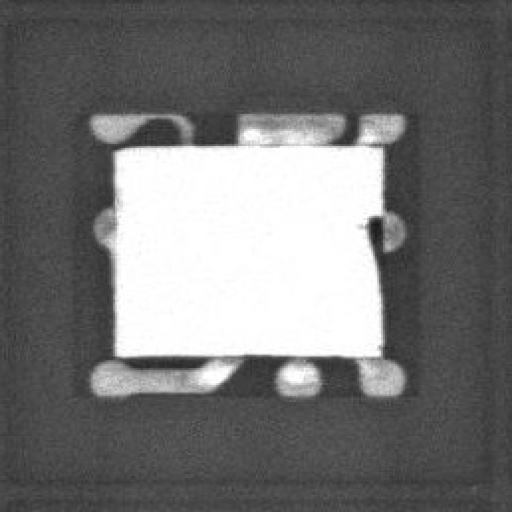DIE_BROKEN: (355, 211, 381, 273)
